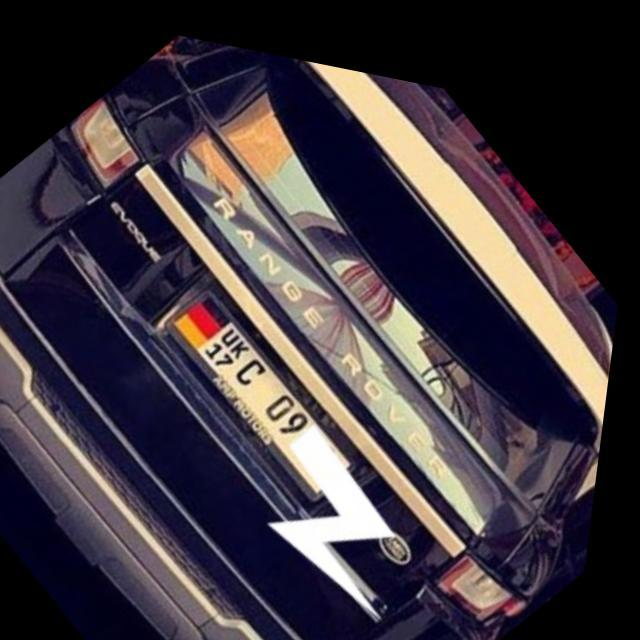license_plate: (192, 300, 372, 480)
